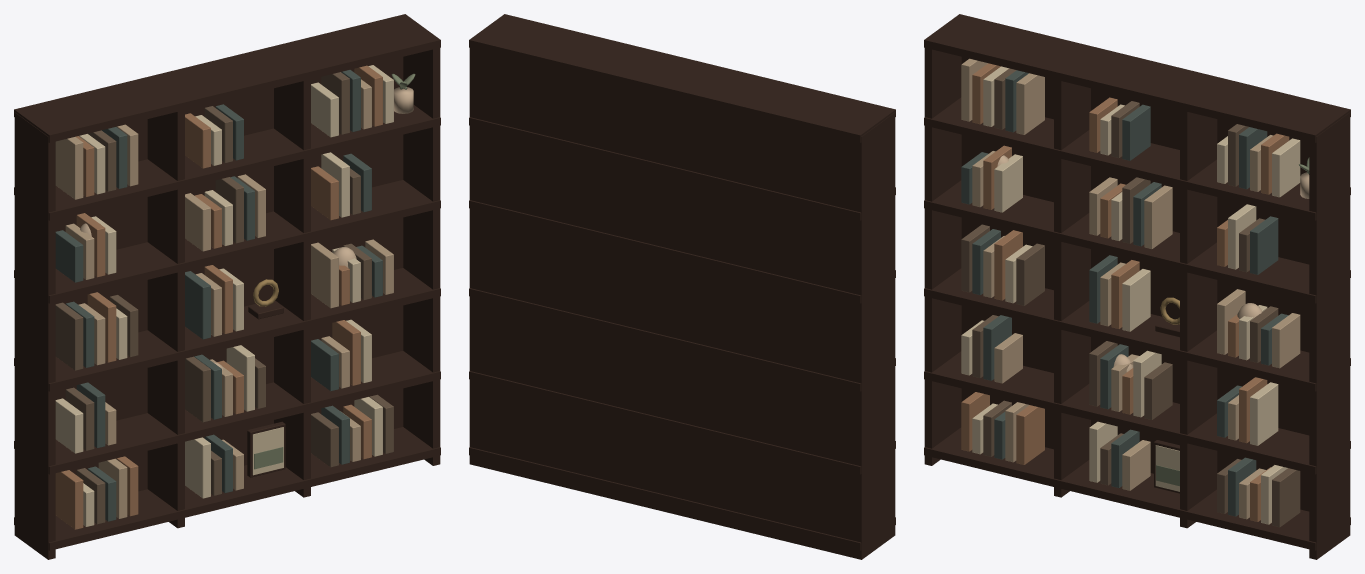
File: bookshelf.glb
3 renders of one model, left to right at view 1: azimuth 30°, elevation 25°; view 2: azimuth 150°, elevation 25°; view 3: azimuth 330°, elevation 25°, orthographic.
Visible parts, largest first — view 1: Bookshelf rear panel, Bookshelf vertical divider, Bookshelf shelf.005, Bookshelf vertical divider.001, Bookshelf vertical divider.003, Bookshelf vertical divider.002, Bookshelf shelf.001, Bookshelf shelf.003, Bookshelf shelf.004, Bookshelf shelf, Bookshelf shelf.002, Book spine.030 (+67 smaller); view 2: Bookshelf rear panel, Bookshelf vertical divider, Bookshelf shelf.005, Bookshelf shelf.001, Bookshelf shelf.002, Bookshelf shelf.004, Bookshelf shelf, Bookshelf shelf.003, Bookshelf vertical divider.002, Bookshelf vertical divider.003, Bookshelf vertical divider.001; view 3: Bookshelf rear panel, Bookshelf vertical divider.003, Bookshelf shelf.005, Bookshelf vertical divider, Bookshelf vertical divider.002, Bookshelf vertical divider.001, Bookshelf shelf.001, Bookshelf shelf.003, Bookshelf shelf.004, Bookshelf shelf.002, Bookshelf shelf, Book spine.065 (+70 smaller).
Part boxes in pixels (bbox=[...]): Bookshelf rear panel: bbox=[55, 57, 403, 491]; Bookshelf vertical divider: bbox=[14, 112, 55, 559]; Bookshelf shelf.005: bbox=[14, 14, 440, 142]; Bookshelf vertical divider.001: bbox=[147, 110, 184, 528]; Bookshelf vertical divider.003: bbox=[403, 48, 440, 465]; Bookshelf vertical divider.002: bbox=[274, 79, 310, 497]; Bookshelf shelf.001: bbox=[14, 351, 440, 474]; Bookshelf shelf.003: bbox=[14, 180, 440, 303]; Bookshelf shelf.004: bbox=[14, 105, 440, 220]; Bookshelf shelf: bbox=[14, 427, 440, 550]; Bookshelf shelf.002: bbox=[14, 268, 440, 391]; Book spine.030: bbox=[55, 302, 83, 370]; Bookshelf rear panel: bbox=[471, 49, 859, 557]; Bookshelf vertical divider: bbox=[854, 112, 895, 559]; Bookshelf shelf.005: bbox=[469, 14, 895, 142]; Bookshelf shelf.001: bbox=[469, 371, 895, 474]; Bookshelf shelf.002: bbox=[469, 288, 895, 391]; Bookshelf shelf.004: bbox=[469, 117, 895, 220]; Bookshelf shelf: bbox=[469, 447, 895, 550]; Bookshelf shelf.003: bbox=[469, 200, 895, 303]; Bookshelf vertical divider.002: bbox=[599, 79, 606, 497]; Bookshelf vertical divider.003: bbox=[469, 48, 476, 465]; Bookshelf vertical divider.001: bbox=[725, 110, 732, 527]; Bookshelf rear panel: bbox=[961, 57, 1309, 511]; Bookshelf vertical divider.003: bbox=[1309, 112, 1350, 559]; Bookshelf shelf.005: bbox=[924, 14, 1350, 142]; Bookshelf vertical divider: bbox=[924, 48, 961, 465]; Bookshelf vertical divider.002: bbox=[1180, 110, 1217, 528]; Bookshelf vertical divider.001: bbox=[1054, 79, 1090, 497]; Bookshelf shelf.001: bbox=[924, 351, 1350, 474]; Bookshelf shelf.003: bbox=[924, 180, 1350, 303]; Bookshelf shelf.004: bbox=[924, 97, 1350, 220]; Bookshelf shelf.002: bbox=[924, 268, 1350, 391]; Bookshelf shelf: bbox=[924, 427, 1350, 550]; Book spine.065: bbox=[1016, 73, 1044, 134].
Size of the model in its own units: 2.43 by 2.51 by 0.38.
